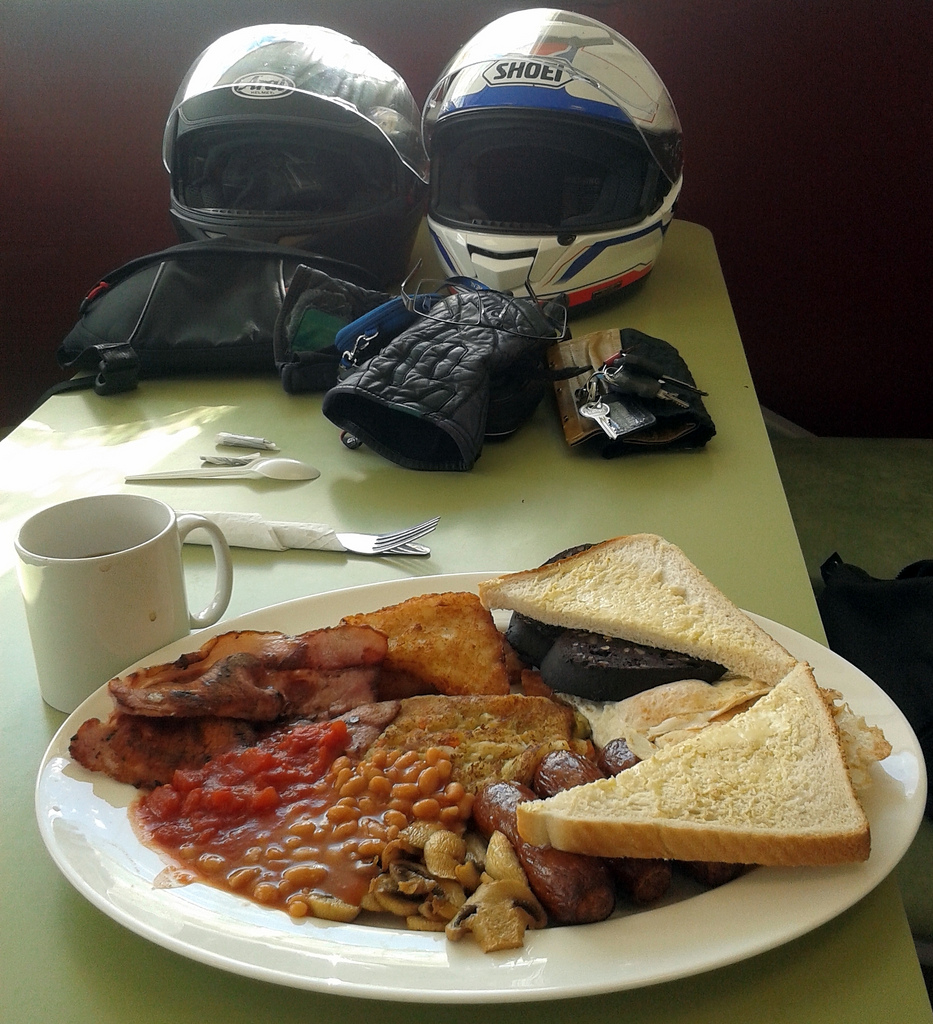slice of bread: (523, 671, 878, 871), (477, 539, 817, 685)
